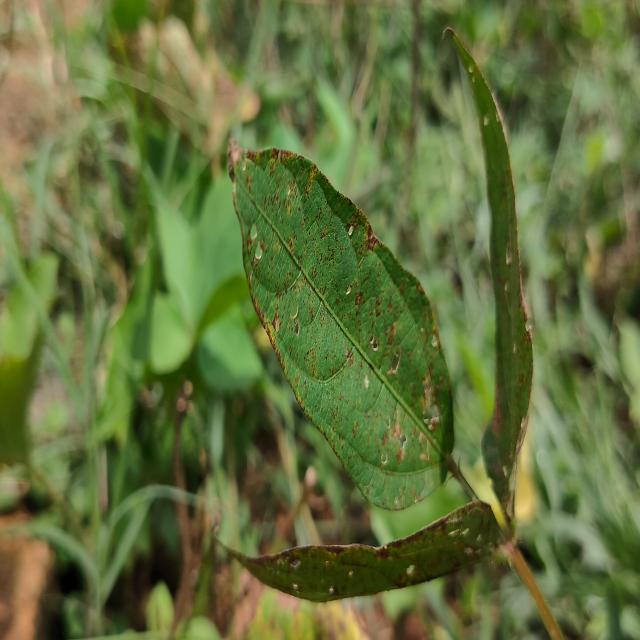Black gram_leaf spot: (226, 147, 453, 510), (443, 19, 533, 524), (214, 504, 514, 604)
